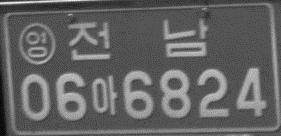0: (19, 72, 50, 122)
2: (196, 67, 229, 117)
4: (235, 66, 267, 117)
6: (121, 68, 154, 119), (54, 72, 87, 121)
8: (158, 68, 191, 119)
아: (90, 74, 120, 115)
영: (17, 22, 57, 65)
전남_D: (66, 17, 208, 62)
